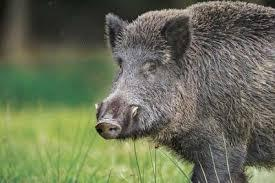wildboar: (92, 0, 274, 182)
